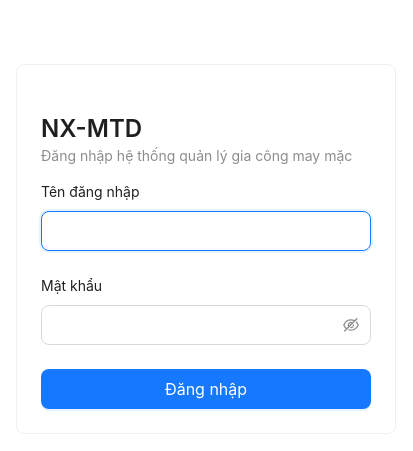
Test: LoginPage › shows required-field messages when submitted empty
Click the button "Đăng nhập" at (206, 389), box [41, 369, 371, 409]
(page scrolled)
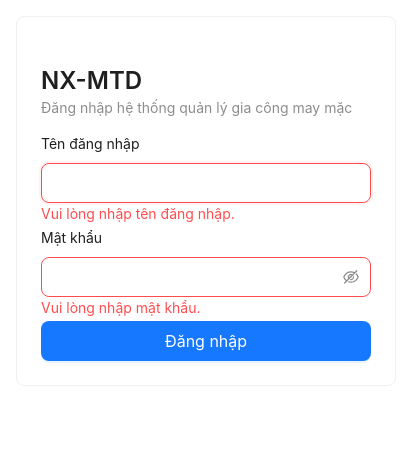
Check: the text "Vui lòng nhập tên đăng nhập." is shown, box [41, 205, 235, 222]
Check: the text "Vui lòng nhập mật khẩu." is shown, box [41, 299, 200, 316]
